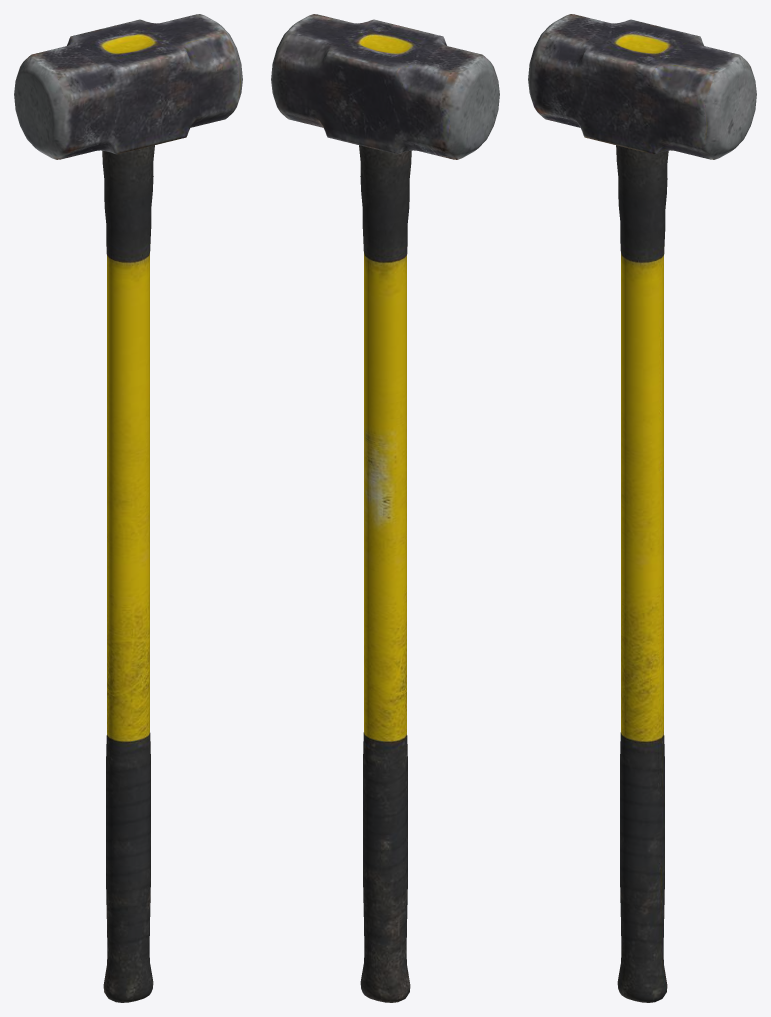
The picture shows the model from 3 angles, left to right: view 1: azimuth 30°, elevation 25°; view 2: azimuth 150°, elevation 25°; view 3: azimuth 330°, elevation 25°; orthographic projection.
Parts seen in each view (by area): view 1: sledgehammer_01; view 2: sledgehammer_01; view 3: sledgehammer_01.
Boxes of the visible parts, x1,y1,x2,y2 form: sledgehammer_01: (14, 14, 242, 1002); sledgehammer_01: (271, 14, 499, 1002); sledgehammer_01: (528, 14, 756, 1002).
Size of the model in its own units: 0.2085 by 1.01 by 0.0905.
1 material, 1 textured.
